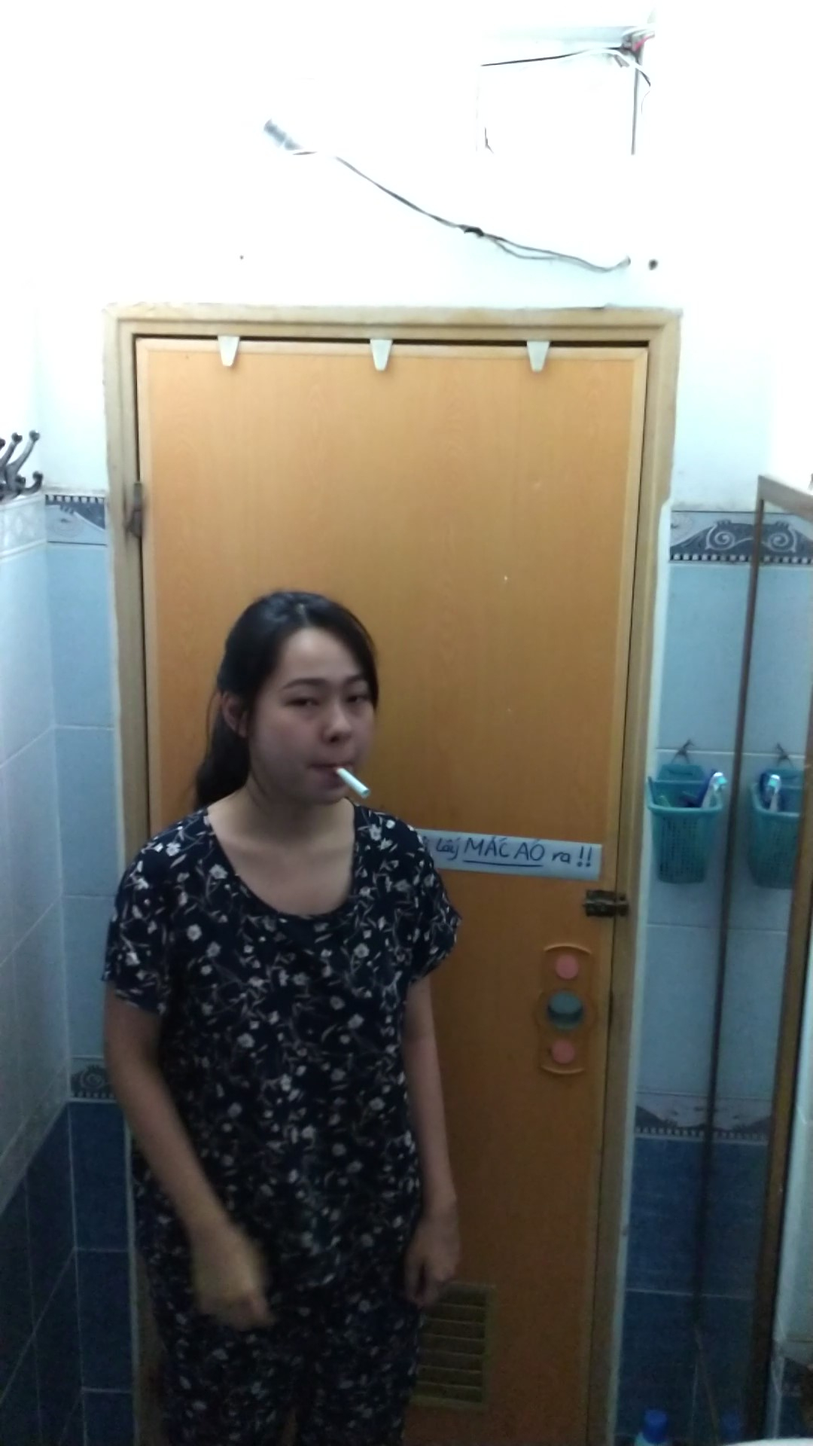cigarette: (333, 766, 375, 804)
person: (99, 575, 478, 1446)
